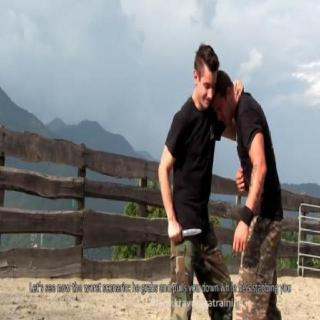knife: (167, 223, 205, 249)
